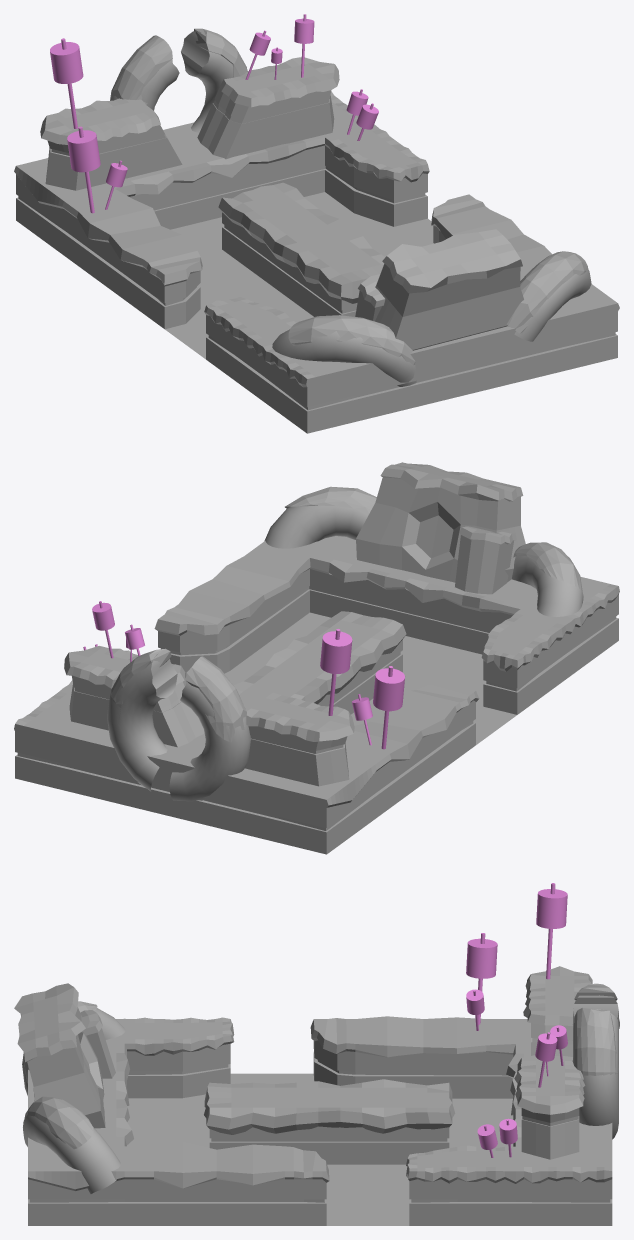
The model's file is env (1).fbx.
3 renders of one model, top to bottom at view 1: azimuth 30°, elevation 25°; view 2: azimuth 150°, elevation 25°; view 3: azimuth 270°, elevation 25°, orthographic.
Visible parts, largest first — view 1: pCube14, pCube1, pCube4, pCube13, pCube9, pPlane1, pCube12, pCube5, pCube16, pCube7, pCube3, pCube6 (+11 smaller); view 2: pCube1, pCube14, pCube13, pCube4, pCube12, pCube9, pPlane1, polySurface1, pCube7, polySurface2, pCube5, pCube8 (+13 smaller); view 3: pCube14, pCube1, pCube13, pCube4, pPlane1, pCube9, pCube3, pCube12, pCube16, pCube6, polySurface3, pCube8 (+11 smaller).
Part boxes in pixels (x1,y1,x2,y2): pCube14: [206, 226, 617, 433]; pCube1: [16, 145, 427, 329]; pCube4: [14, 91, 429, 286]; pCube13: [204, 194, 619, 387]; pCube9: [218, 182, 384, 303]; pPlane1: [165, 192, 433, 359]; pCube12: [375, 264, 523, 350]; pCube5: [197, 87, 334, 159]; pCube16: [382, 229, 522, 293]; pCube7: [45, 125, 182, 190]; pCube3: [222, 198, 357, 316]; pCube6: [219, 57, 339, 107]; pCube1: [15, 700, 475, 854]; pCube14: [158, 569, 618, 714]; pCube13: [154, 536, 619, 671]; pCube4: [14, 650, 479, 807]; pCube12: [356, 477, 525, 582]; pCube9: [233, 611, 406, 704]; pPlane1: [224, 612, 516, 744]; polySurface1: [107, 654, 177, 791]; pCube7: [245, 726, 349, 786]; polySurface2: [169, 681, 250, 801]; pCube5: [69, 675, 204, 747]; pCube8: [243, 691, 354, 741]; pCube14: [28, 1043, 326, 1225]; pCube1: [313, 1040, 612, 1225]; pCube13: [28, 1017, 329, 1190]; pCube4: [310, 1016, 612, 1183]; pPlane1: [127, 1073, 513, 1225]; pCube9: [204, 1079, 455, 1134]; pCube3: [209, 1090, 449, 1164]; pCube12: [27, 1007, 105, 1128]; pCube16: [14, 983, 85, 1062]; pCube6: [514, 1055, 585, 1114]; polySurface3: [23, 1115, 120, 1193]; pCube8: [523, 966, 592, 1025].
Size of the model in its own units: 0.8893 by 0.5113 by 1.41.
